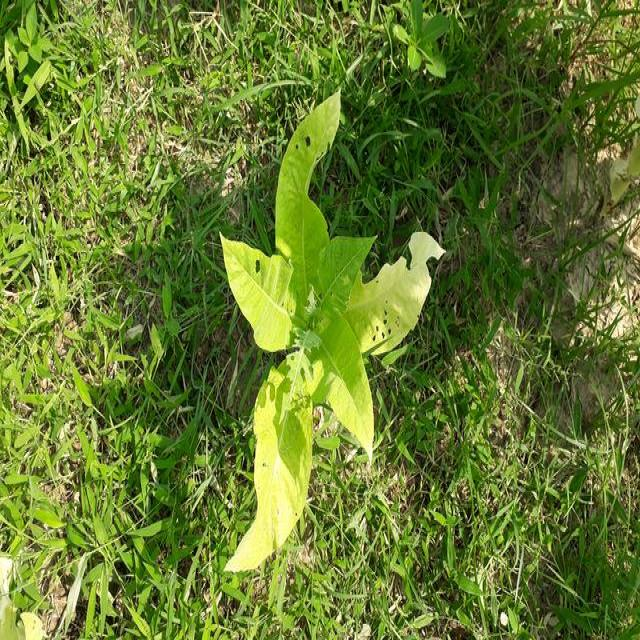crop: (223, 89, 448, 572)
